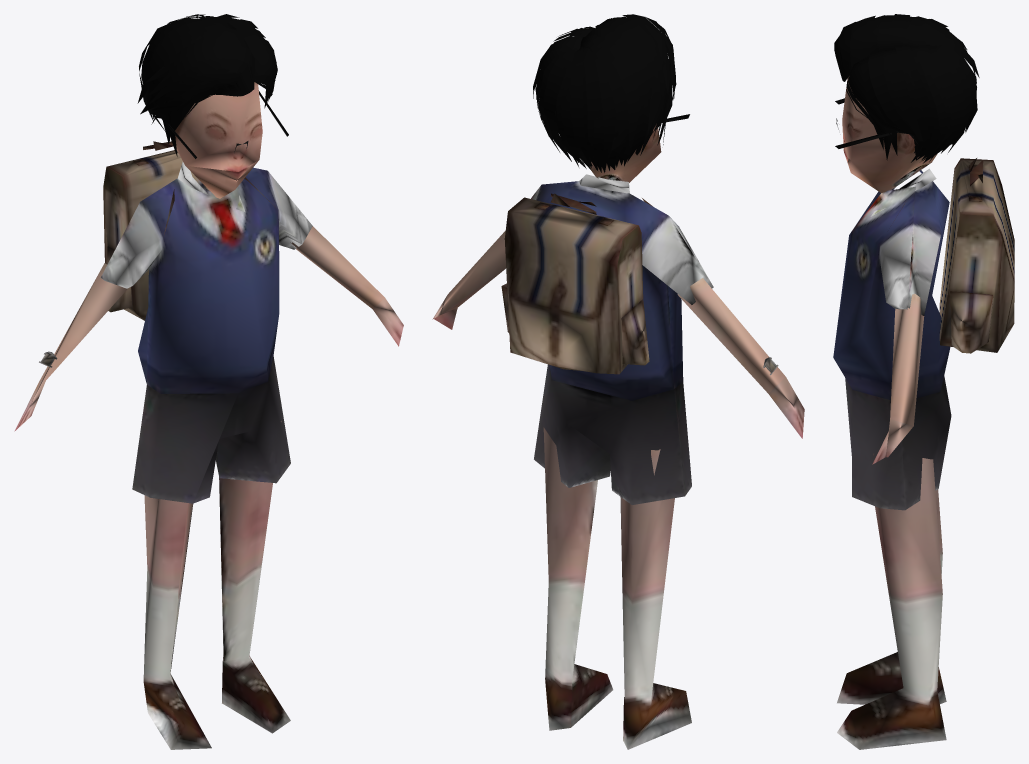
Rendered from Schoolboy.glb.
3 views of the same model, side by side, from view 1: azimuth 30°, elevation 25°; view 2: azimuth 150°, elevation 25°; view 3: azimuth 270°, elevation 25° (orthographic).
Visible parts, largest first — view 1: Obj3d66-4713683-1-467; view 2: Obj3d66-4713683-1-467; view 3: Obj3d66-4713683-1-467.
Boxes of the visible parts, x1,y1,x2,y2 form: Obj3d66-4713683-1-467: [14, 14, 403, 749]; Obj3d66-4713683-1-467: [432, 14, 804, 749]; Obj3d66-4713683-1-467: [833, 14, 1014, 749].
Bounding box in the file's own units: 0.5151 × 0.9053 × 0.2133.
Materials: 2 (2 with a texture image).
